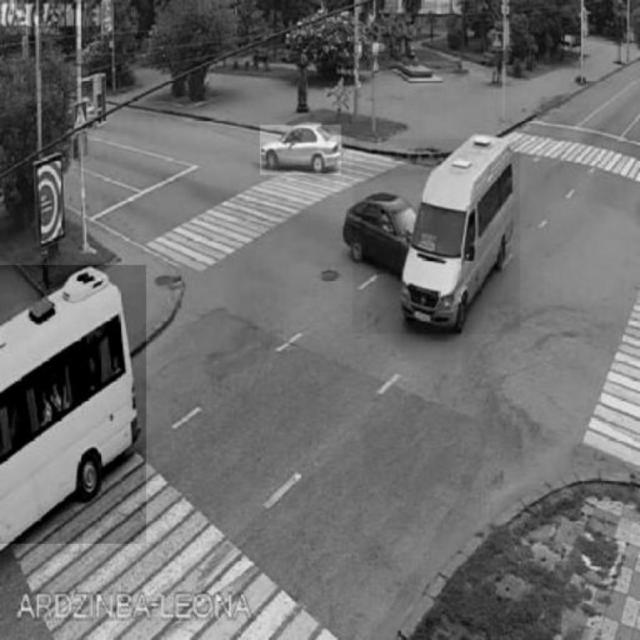accident: (353, 139, 520, 334)
vehicle: (0, 266, 146, 544), (261, 126, 342, 176)
